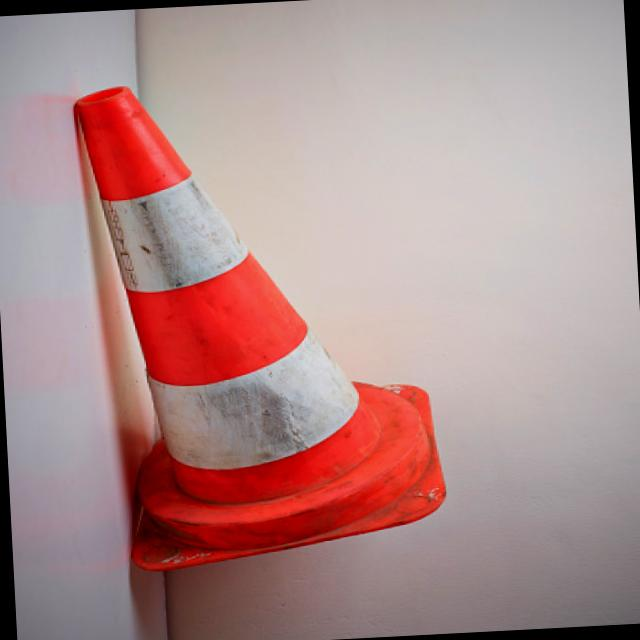cone: (65, 54, 462, 604)
